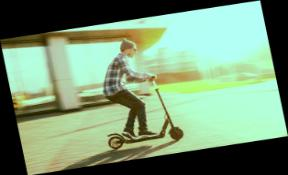nonhelmet: (84, 29, 186, 152)
